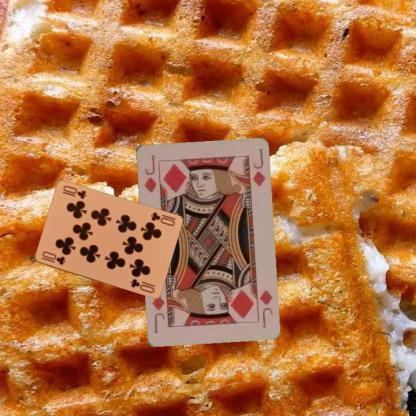10c: (148, 209, 176, 228), (39, 248, 66, 266)
Jd: (256, 286, 274, 328), (141, 152, 158, 194)
